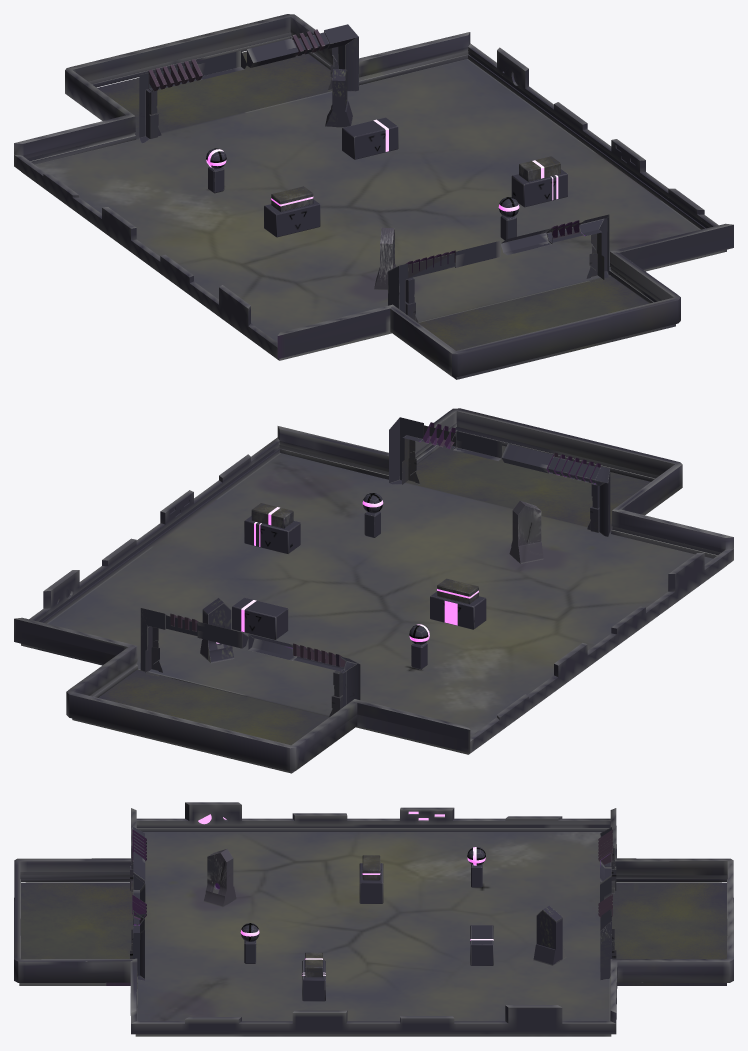
File: Mapita.fbx
3 views of the same model, one above another, from view 1: azimuth 30°, elevation 25°; view 2: azimuth 150°, elevation 25°; view 3: azimuth 270°, elevation 25° (orthographic). The views are drawn at different scales.
Visible parts, largest first — view 1: map, Wall1, Wall2, Wall3, BAR4.001, Bar3; view 2: map, Wall2, Wall1, Wall3, Bar3, BAR4.001; view 3: map, BAR4.001, Bar3, Wall1, Wall2, Wall3.
Part boxes in pixels (x1=…): map: x1=14, y1=14, x2=733, y2=379; Wall1: x1=264, y1=186, x2=320, y2=237; Wall2: x1=511, y1=156, x2=567, y2=207; Wall3: x1=342, y1=117, x2=398, y2=159; BAR4.001: x1=325, y1=69, x2=352, y2=127; Bar3: x1=374, y1=227, x2=396, y2=290; map: x1=14, y1=408, x2=733, y2=773; Wall2: x1=244, y1=503, x2=300, y2=553; Wall1: x1=430, y1=578, x2=486, y2=629; Wall3: x1=232, y1=597, x2=288, y2=639; Bar3: x1=509, y1=500, x2=543, y2=563; BAR4.001: x1=200, y1=598, x2=234, y2=663; map: x1=14, y1=802, x2=733, y2=1036; BAR4.001: x1=533, y1=905, x2=566, y2=965; Bar3: x1=203, y1=849, x2=236, y2=907; Wall1: x1=359, y1=855, x2=383, y2=903; Wall2: x1=302, y1=952, x2=325, y2=1001; Wall3: x1=470, y1=925, x2=493, y2=965.
Bounding box in the file's own units: 2058 × 302 × 3053.
